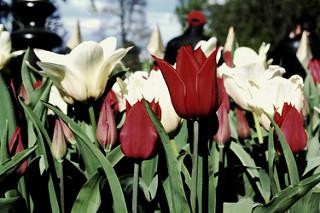tulip: (158, 45, 219, 121), (117, 96, 162, 158), (274, 101, 309, 155)
